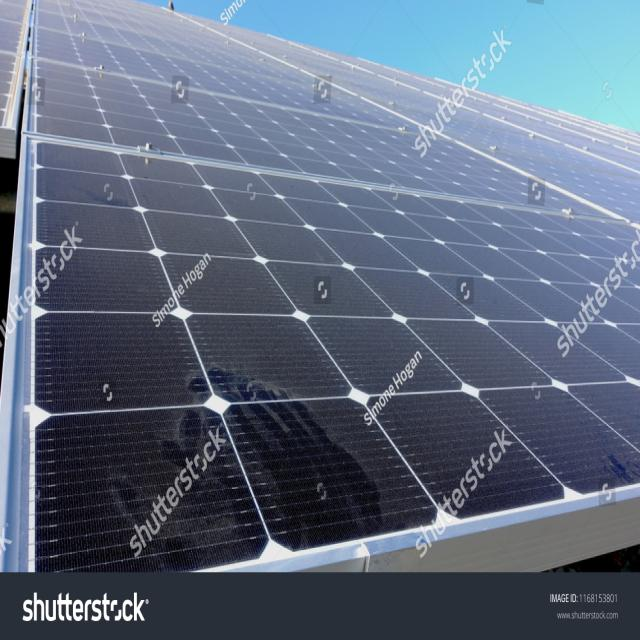dust-solar-panel: (22, 0, 640, 567)
